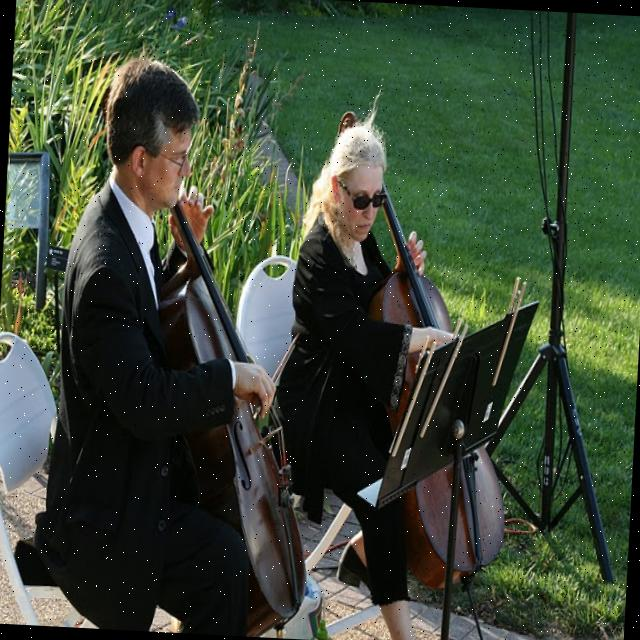cello: (314, 112, 532, 601), (135, 185, 328, 632)
